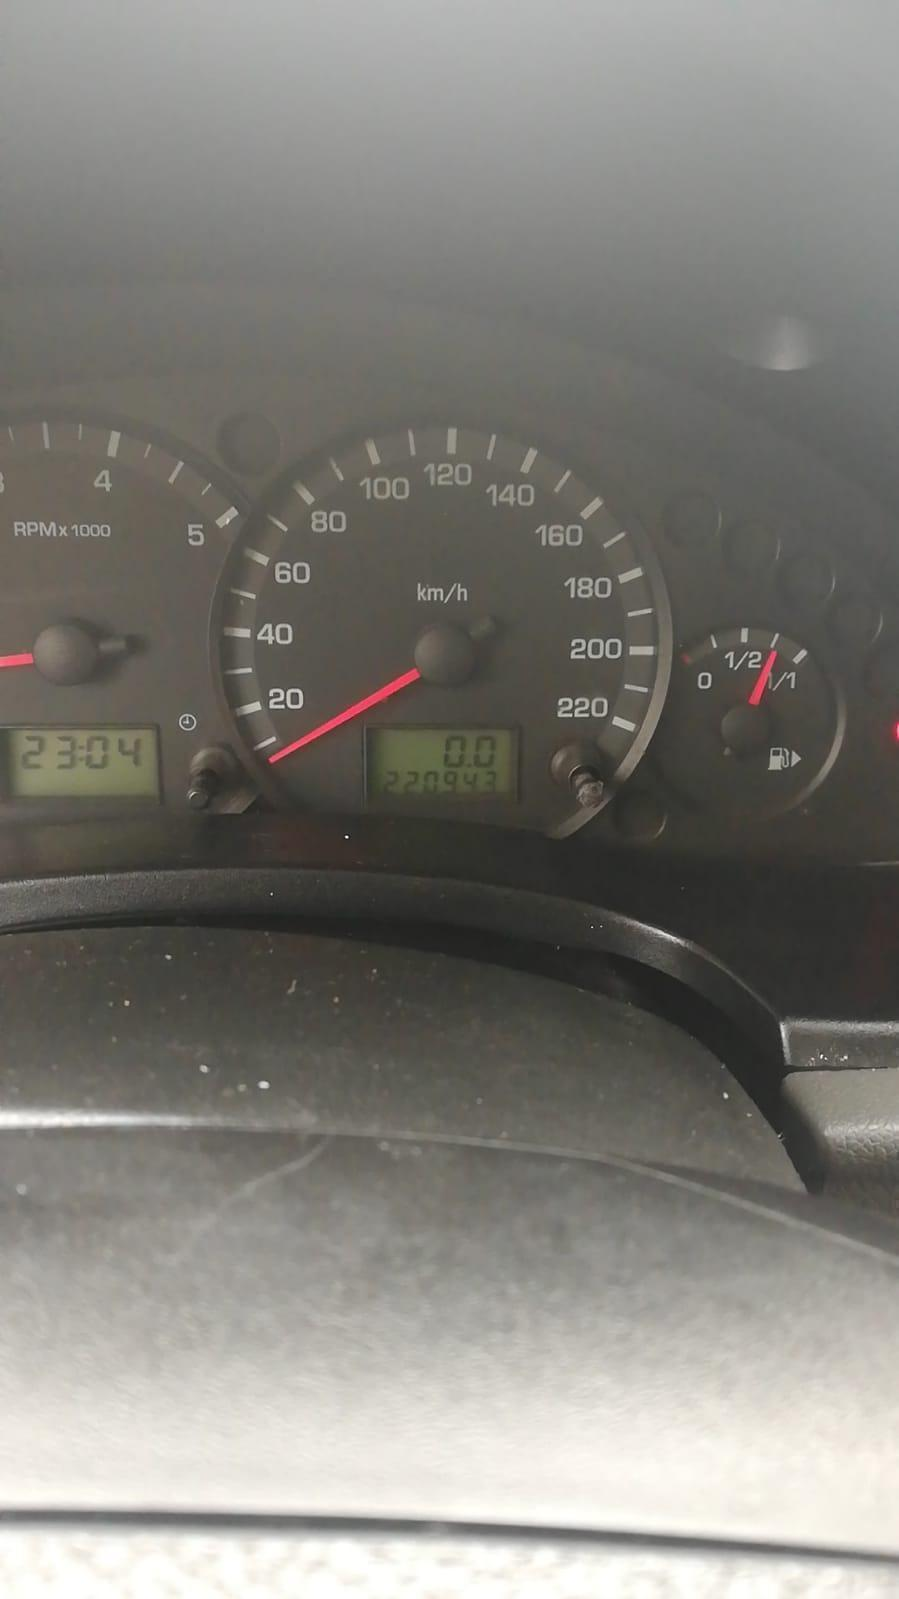,: (467, 762, 473, 768)
0: (473, 735, 495, 767), (443, 735, 465, 767), (423, 770, 438, 793)
2: (382, 770, 398, 794), (403, 770, 418, 794)
3: (483, 770, 496, 793)
4: (462, 772, 477, 792)
9: (443, 770, 457, 794)
odometer: (360, 722, 525, 810)
